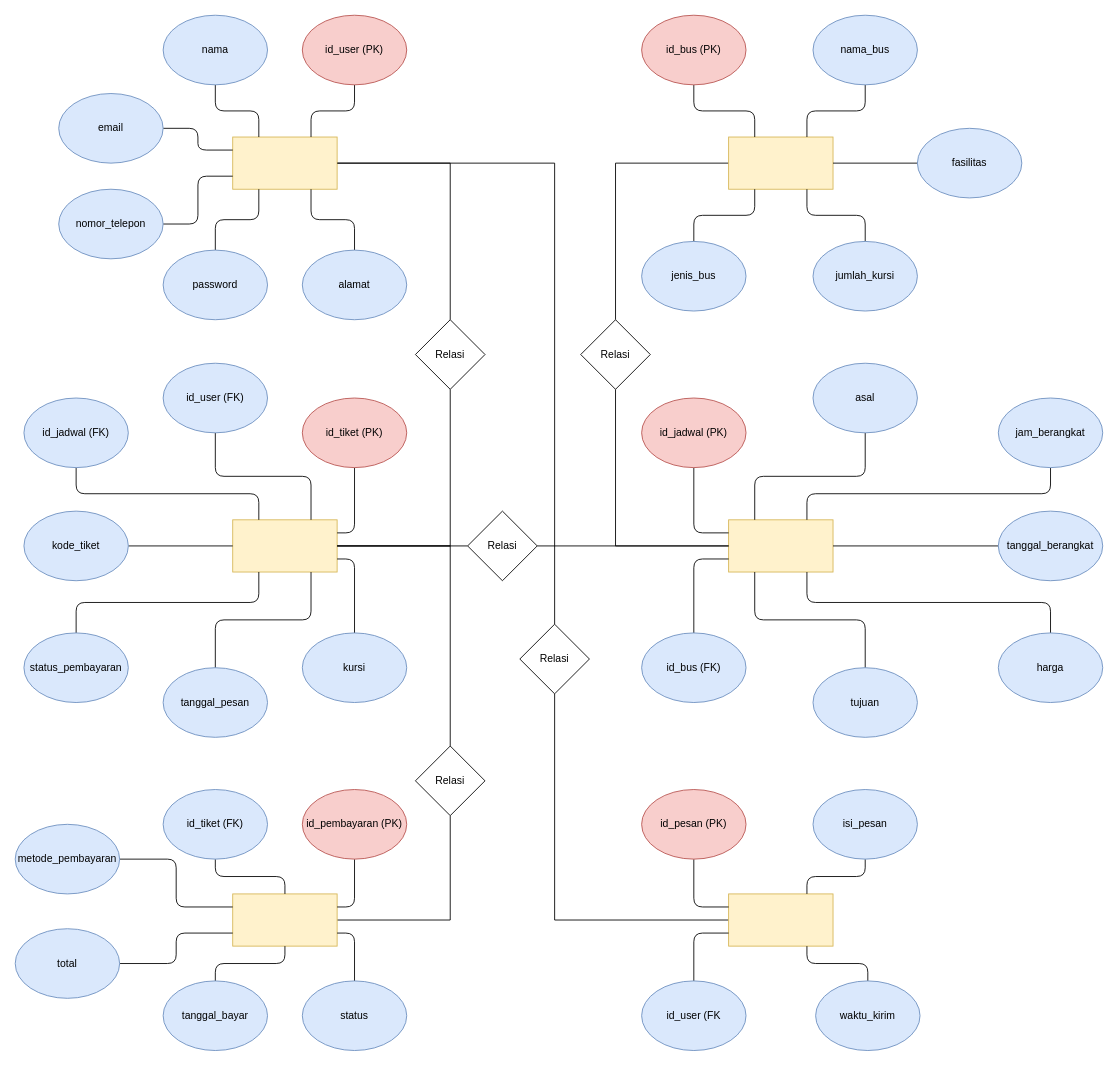
This 1118x1066 diagram has some shape labels left out. The box of each missing label's shape, as (x1, y1, x2, y2) in pixels:
Bus: (728, 136, 833, 189)
Jadwal: (728, 519, 833, 572)
Pembayaran: (232, 893, 337, 946)
Pesan: (728, 893, 833, 946)
Tiket: (232, 519, 337, 572)
User: (232, 136, 337, 189)
